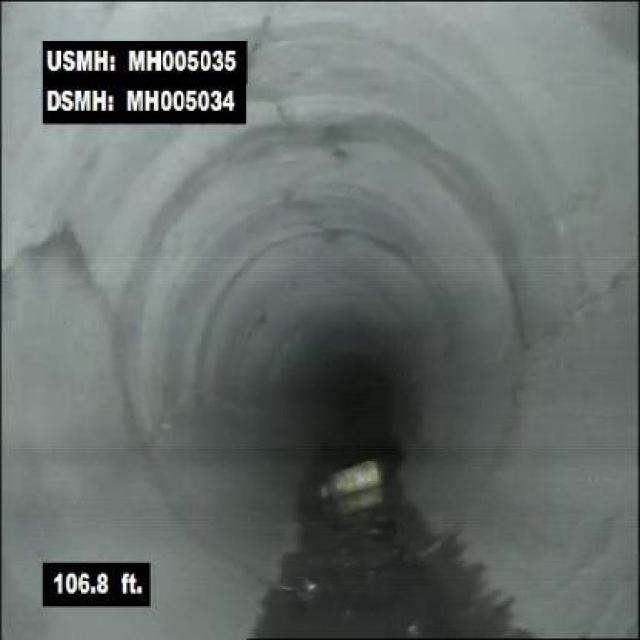Crack: (0, 218, 112, 321), (542, 243, 638, 342), (248, 0, 303, 129)
